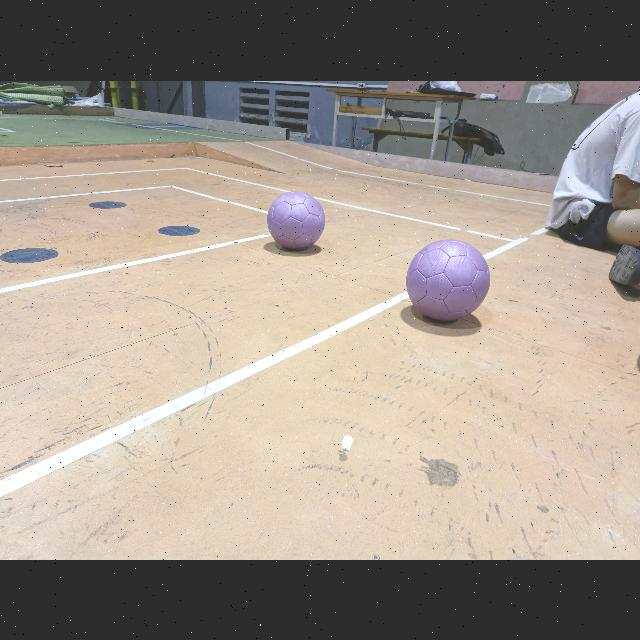P: (406, 238, 489, 320), (268, 191, 324, 249)
